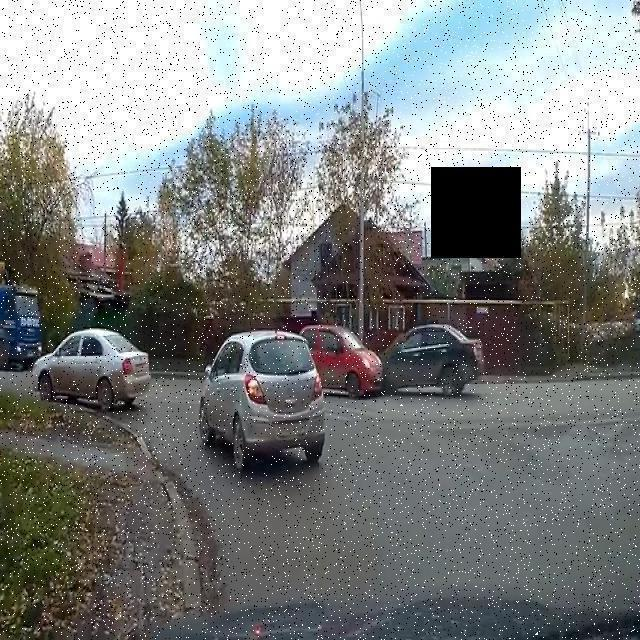accident: (288, 308, 487, 406)
